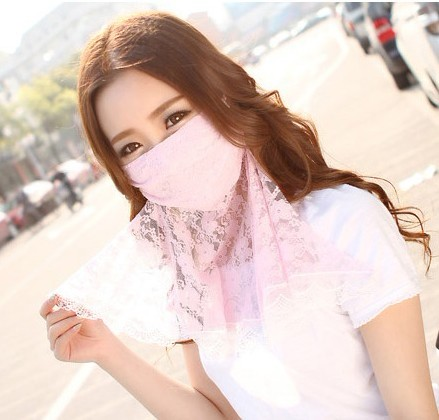face_mask: (98, 71, 228, 211)
